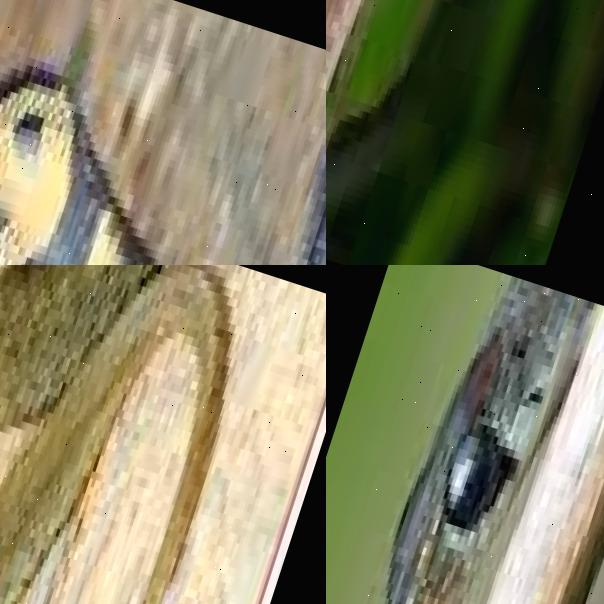snake: (0, 265, 285, 604), (326, 265, 604, 604), (0, 0, 326, 265), (326, 0, 604, 265)
